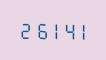four: (60, 20, 73, 40)
one: (46, 19, 59, 40), (74, 20, 87, 40)
six: (32, 19, 45, 39)
two: (18, 19, 31, 39)
